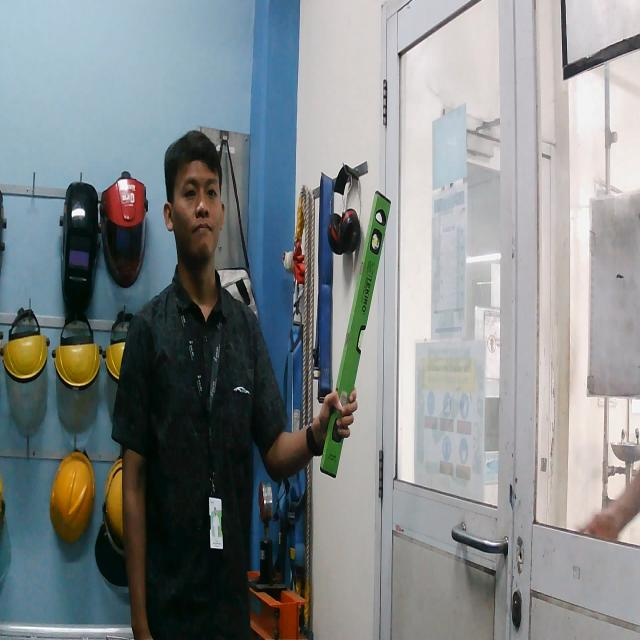water_pass: (316, 186, 395, 485)
